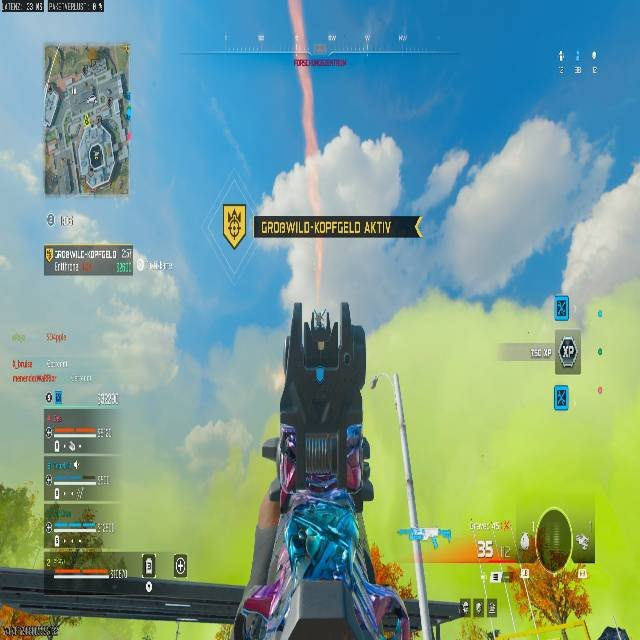player: (280, 437, 363, 581)
